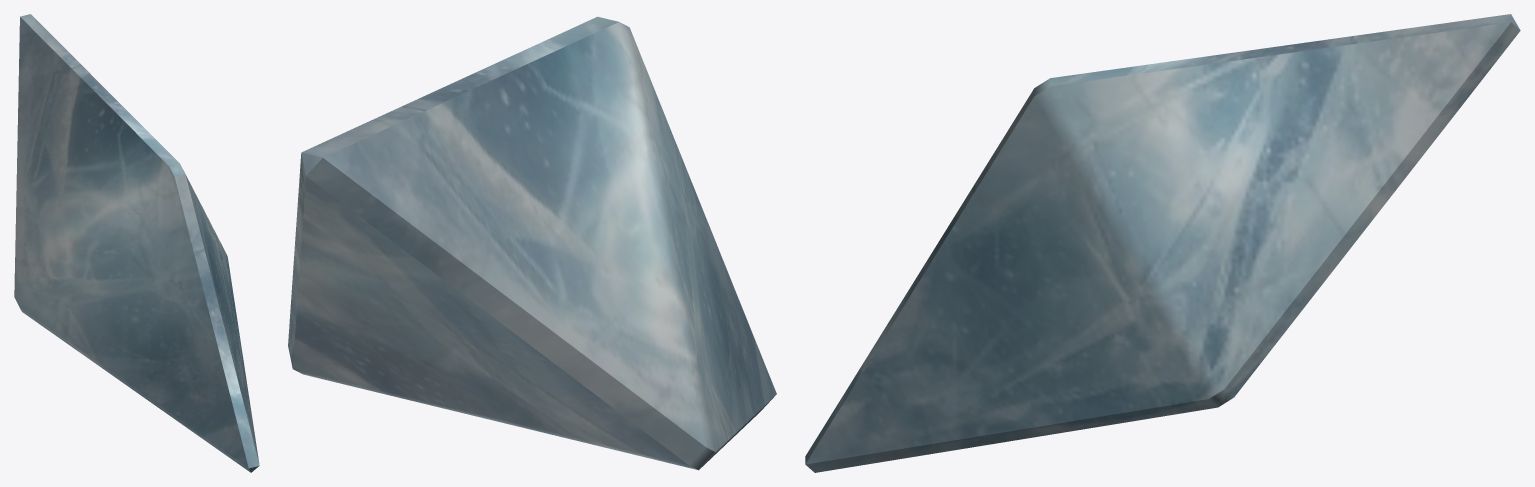
The model's file is iceobject.fbx.
The picture shows the model from 3 angles, left to right: view 1: azimuth 30°, elevation 25°; view 2: azimuth 150°, elevation 25°; view 3: azimuth 270°, elevation 25°; orthographic projection. The views are drawn at different scales.
Visible parts, largest first — view 1: polySurface441; view 2: polySurface441; view 3: polySurface441.
Boxes of the visible parts, bbox=[...] form: polySurface441: bbox=[14, 14, 259, 472]; polySurface441: bbox=[288, 16, 776, 470]; polySurface441: bbox=[805, 14, 1520, 472].
Bounding box in the file's own units: 0.3535 × 0.4752 × 0.6783.
